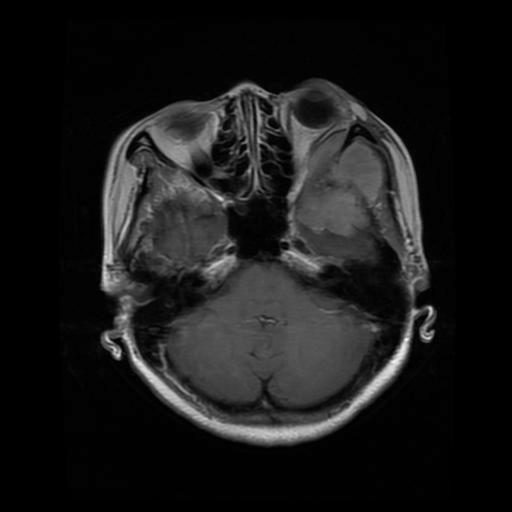Tumour-Meningioma: (295, 171, 382, 264)
